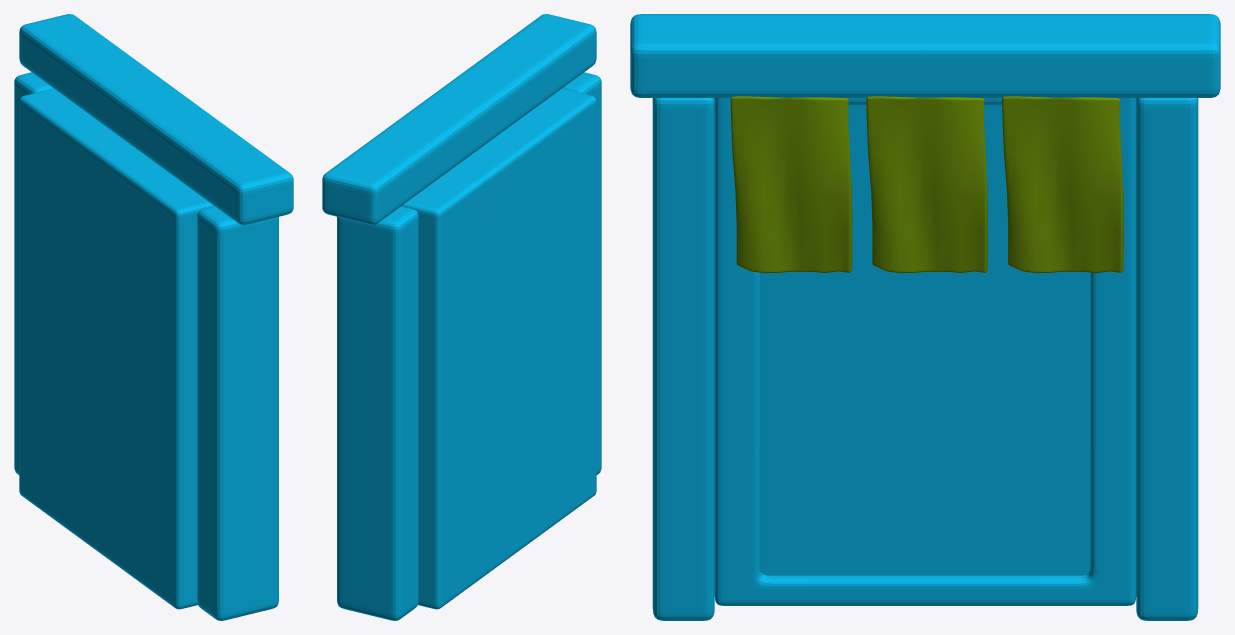
The model's file is SM_Wood_Door_01.fbx.
The picture shows the model from 3 angles, left to right: view 1: azimuth 30°, elevation 25°; view 2: azimuth 150°, elevation 25°; view 3: azimuth 270°, elevation 25°; orthographic projection. The views are drawn at different scales.
Parts seen in each view (by area): view 1: SM_Wood_Door_01; view 2: SM_Wood_Door_01; view 3: SM_Wood_Door_01.
Boxes of the visible parts, left/top/right/bottom form: SM_Wood_Door_01: left=14, top=14, right=293, bottom=620; SM_Wood_Door_01: left=322, top=14, right=601, bottom=620; SM_Wood_Door_01: left=630, top=14, right=1220, bottom=620.
Size of the model in its own units: 0.3173 by 1.45 by 1.33.
